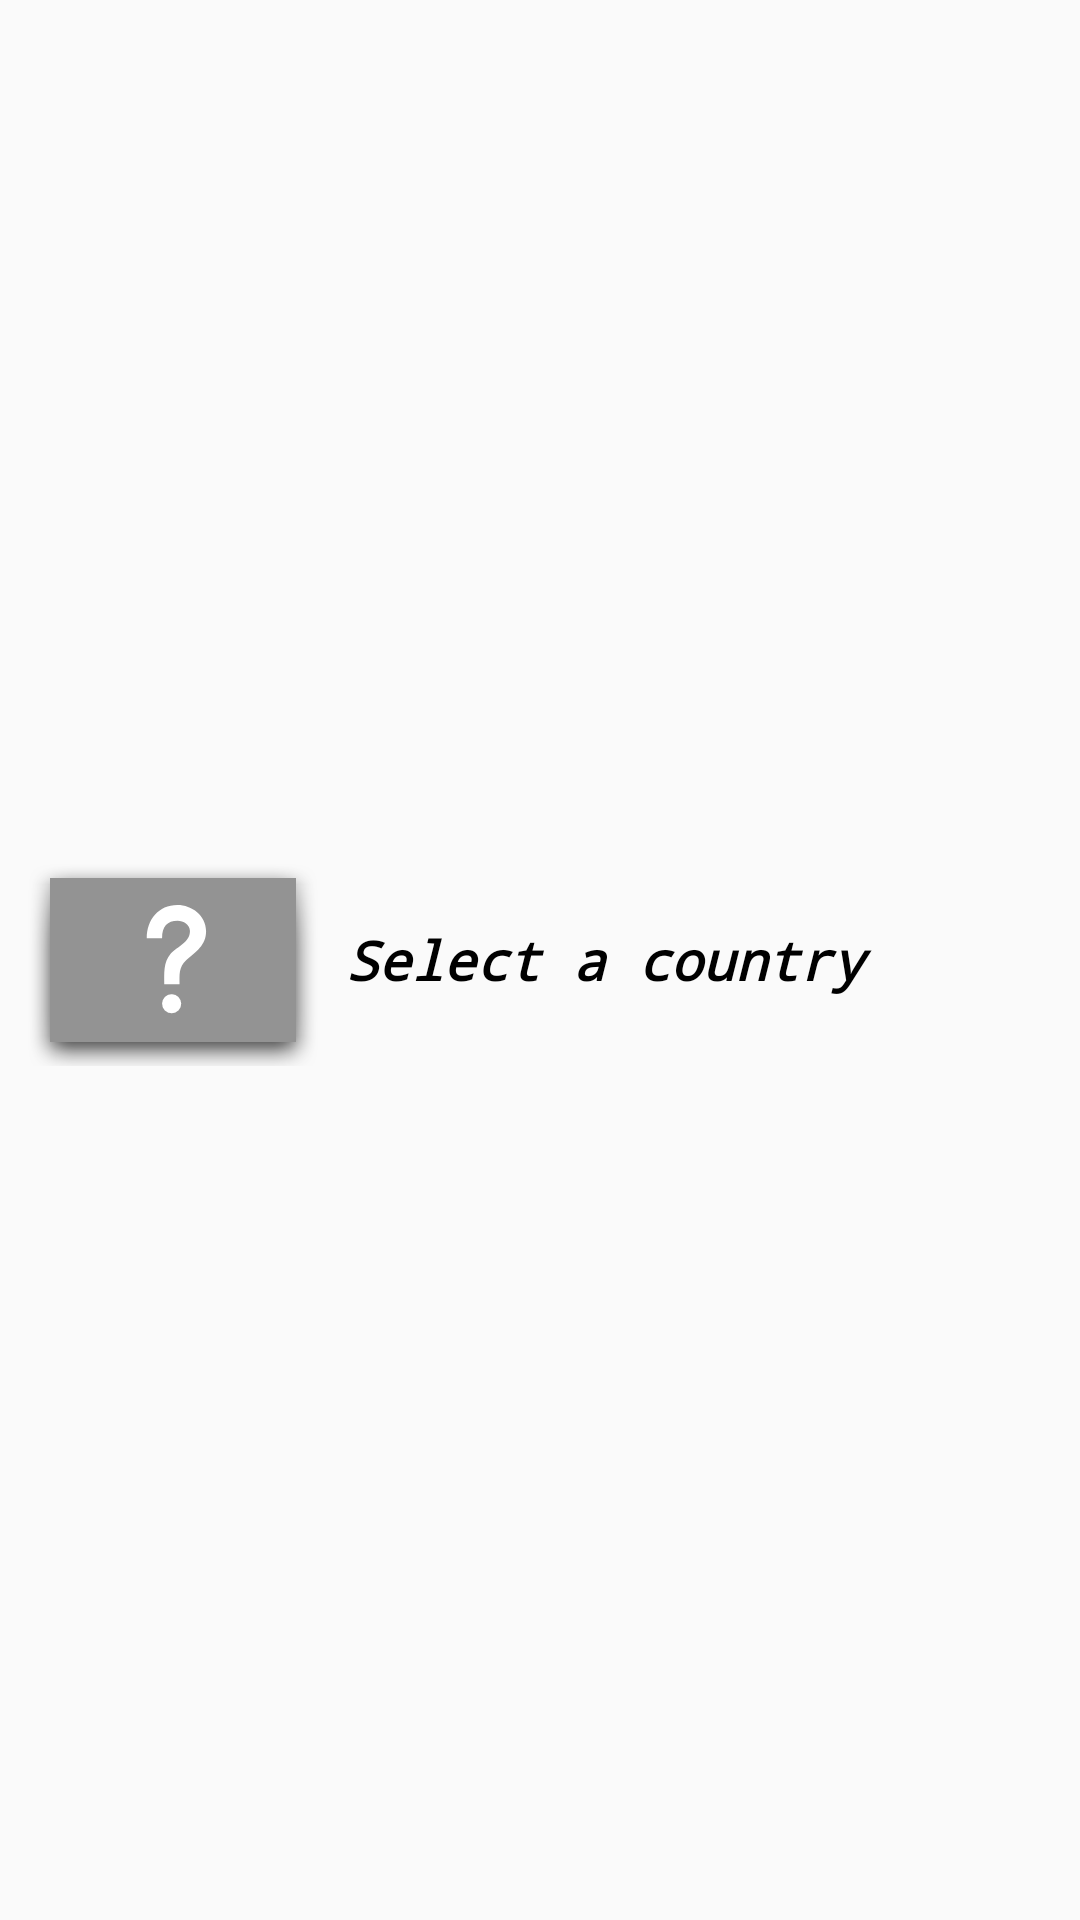

Icon bounding boxes for this 1080×1920 phone screenshot, format box(x1, y1, x2, y2):
unknown: box(38, 874, 308, 1062)
